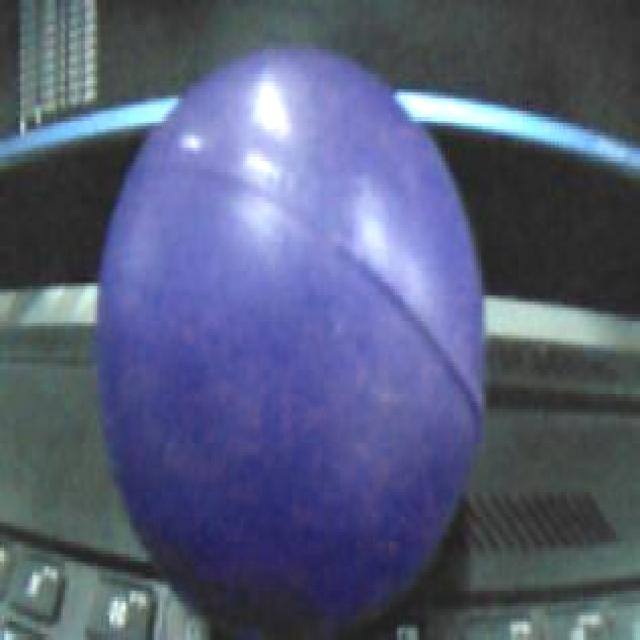BallPurple: (94, 43, 484, 640)
